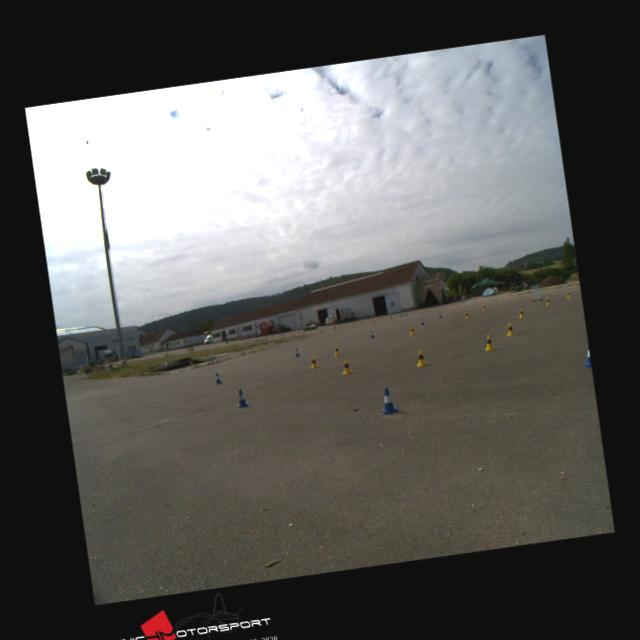blue_cone: (378, 387, 398, 415), (234, 389, 248, 407), (582, 344, 591, 368), (214, 372, 222, 384), (294, 348, 300, 357), (370, 331, 374, 338), (420, 318, 424, 325), (532, 284, 536, 289), (439, 312, 442, 318), (536, 284, 540, 288)
yellow_cone: (414, 350, 427, 366), (340, 358, 352, 374), (482, 334, 494, 350), (504, 321, 516, 336), (310, 355, 318, 368), (333, 344, 341, 356), (409, 324, 416, 336), (518, 307, 524, 318), (464, 311, 470, 319), (566, 290, 572, 298), (545, 298, 550, 306), (482, 304, 486, 311)
